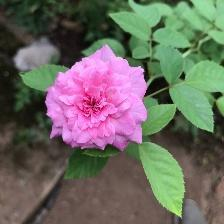rose: (45, 43, 150, 154)
